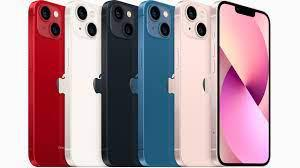Smartphone: (215, 0, 268, 166), (68, 0, 103, 164), (28, 2, 63, 162), (105, 1, 139, 165), (177, 1, 211, 164), (142, 0, 174, 165)
